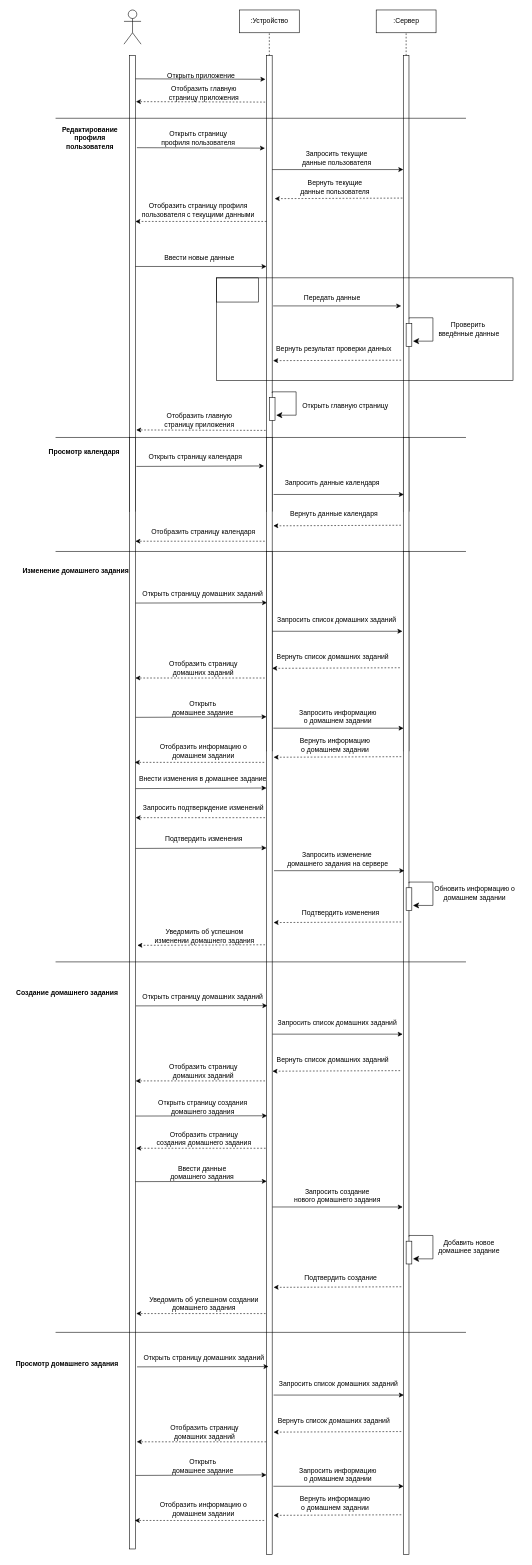
This 532x1565 diagram has some shape labels left out. The shapes that lost their labels are listed below. From the top down, each one's centre as x and y in pixels, then its label:
At [132,26]: "Пользователь".
At [237,289]: "loop".
